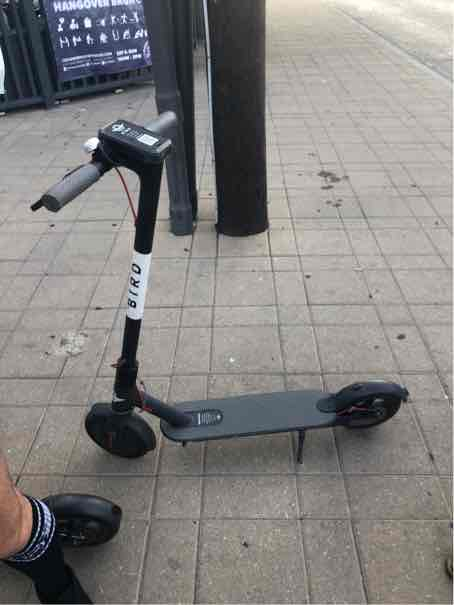scooter: (39, 110, 418, 465)
